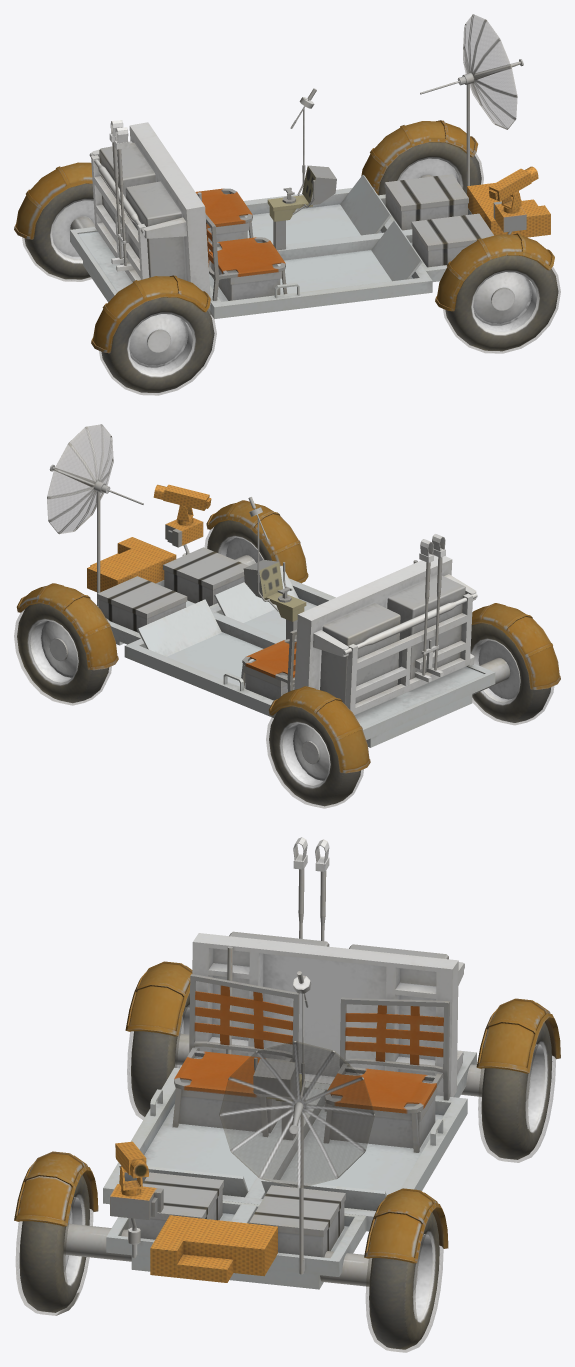
Rendered from lunar_rover_toy.glb.
3 views of the same model, one above another, from view 1: azimuth 30°, elevation 25°; view 2: azimuth 150°, elevation 25°; view 3: azimuth 270°, elevation 25° (orthographic). The views are drawn at different scales.
Visible parts, largest first — view 1: polySurface226; view 2: polySurface226; view 3: polySurface226.
Boxes of the visible parts, bbox=[...] form: polySurface226: bbox=[14, 14, 560, 395]; polySurface226: bbox=[14, 424, 560, 808]; polySurface226: bbox=[14, 837, 560, 1352].
Size of the model in its own units: 2 by 0.9899 by 1.55.
Materials: 1 (1 with a texture image).
